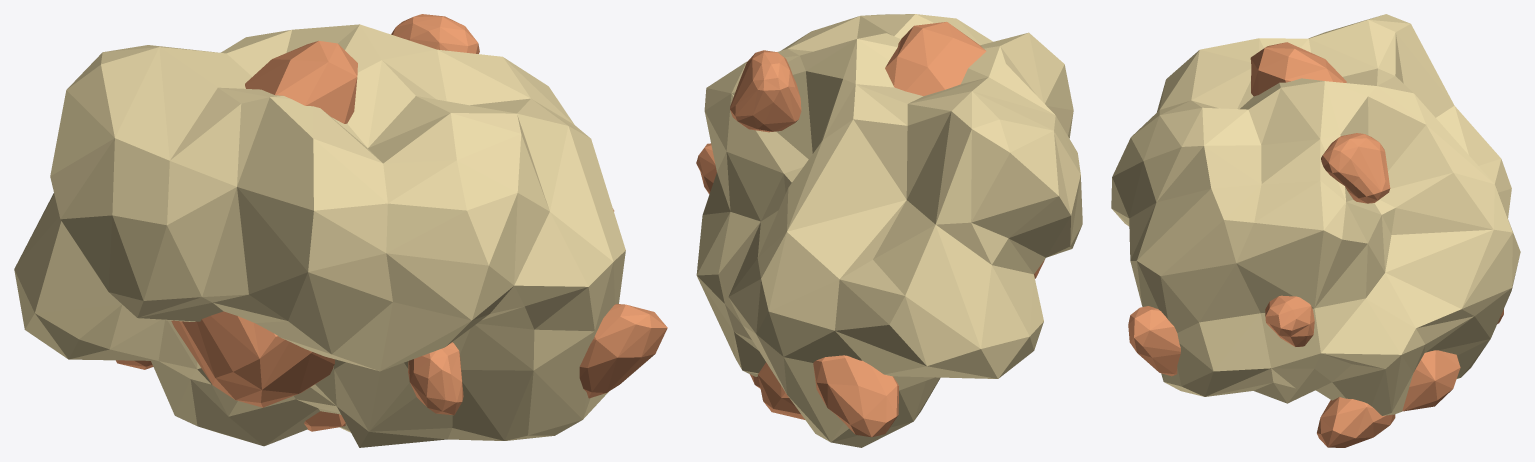
Rendered from StoneOre (52).fbx.
3 views of the same model, side by side, from view 1: azimuth 30°, elevation 25°; view 2: azimuth 150°, elevation 25°; view 3: azimuth 270°, elevation 25° (orthographic). The views are drawn at different scales.
Parts seen in each view (by area): view 1: Asteroid339; view 2: Asteroid339; view 3: Asteroid339.
Part boxes in pixels (x1,y1,x2,y2): Asteroid339: (14, 14, 667, 447); Asteroid339: (696, 14, 1082, 447); Asteroid339: (1111, 14, 1520, 447).
Size of the model in its own units: 336 by 288 by 313.
